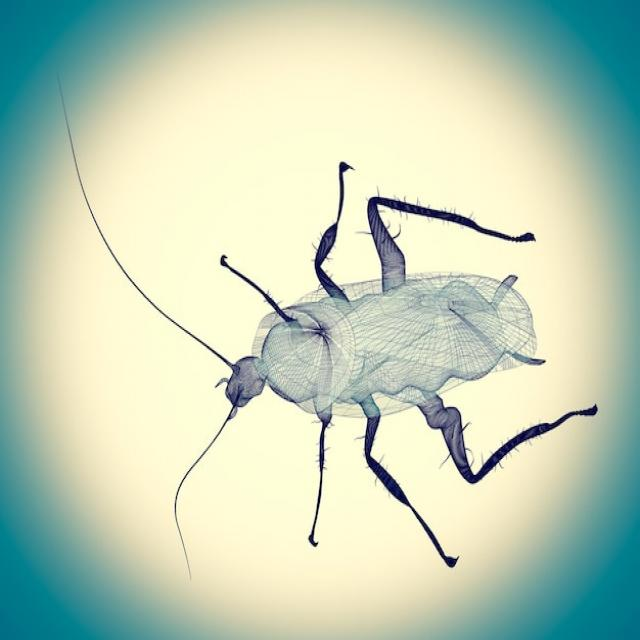Cockroach: (51, 59, 604, 589)
